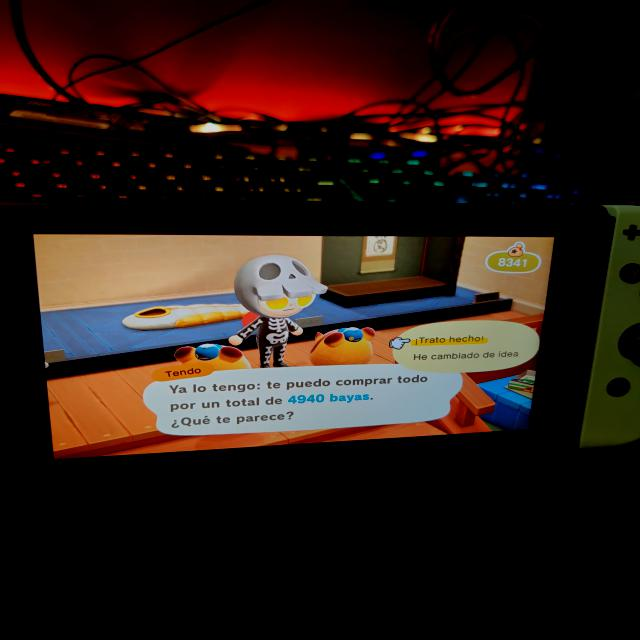text_bubble: (143, 362, 466, 438), (390, 319, 542, 376)
